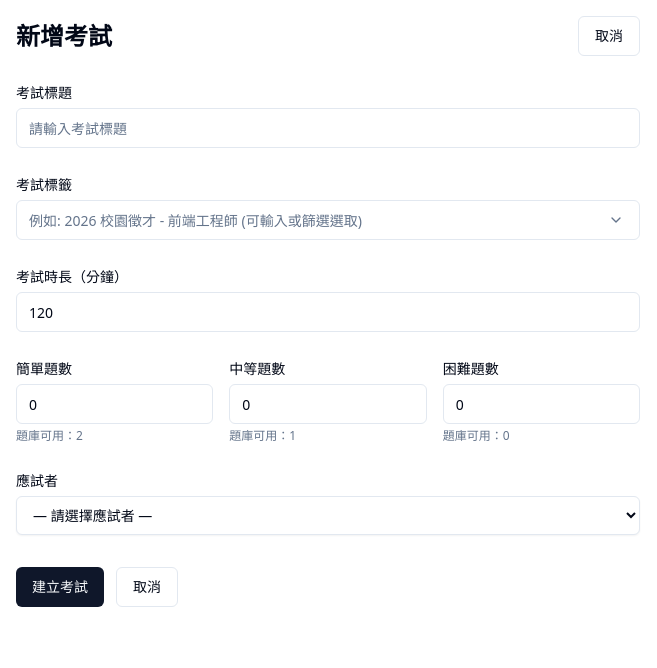
Test: ExamFormPage › performs frontend validations on submit
The image size is (657, 668).
Expected: the heading "新增考試" is shown, [16,20,112,52]
Submit without title
Click the button "建立考試" at (60, 587), box [16,567,104,607]
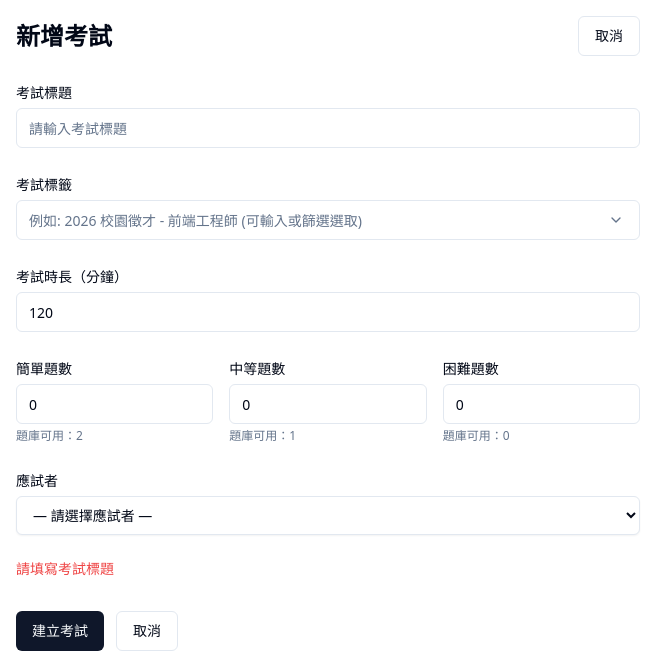
Expected: the text "請填寫考試標題" is shown, [16,559,114,578]
Fill title
Type "  Midterm Exam  " into the field labelled "考試標題" at (328, 128), box [16,108,640,148]
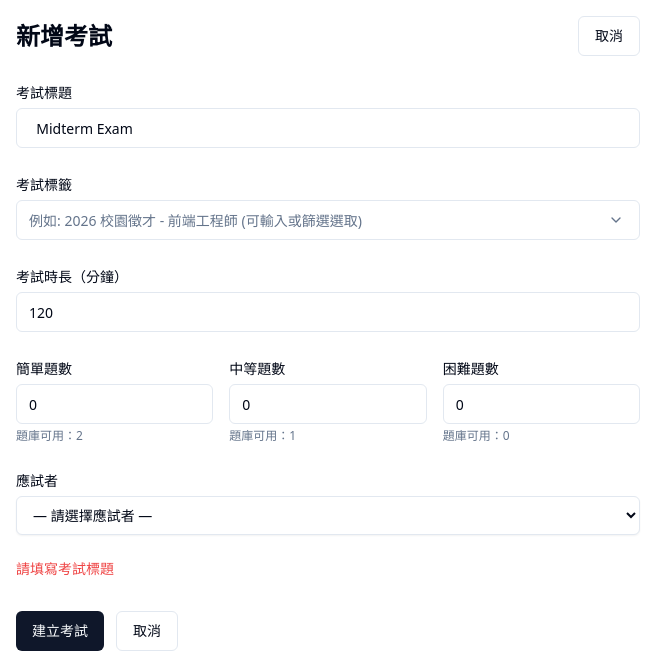
Submit without candidate selected
Click the button "建立考試" at (60, 631), box [16,611,104,651]
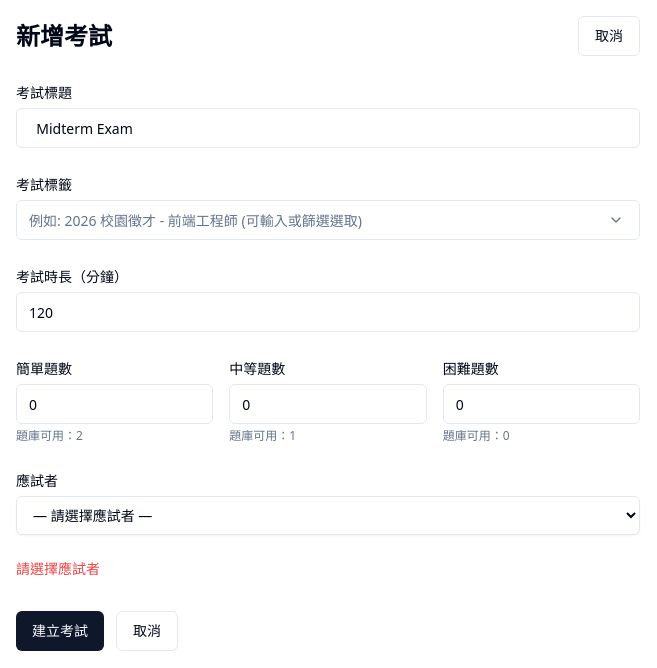
Expected: the text "請選擇應試者" is shown, [16,559,100,578]
Expected: the text "請填寫考試標題" is gone
